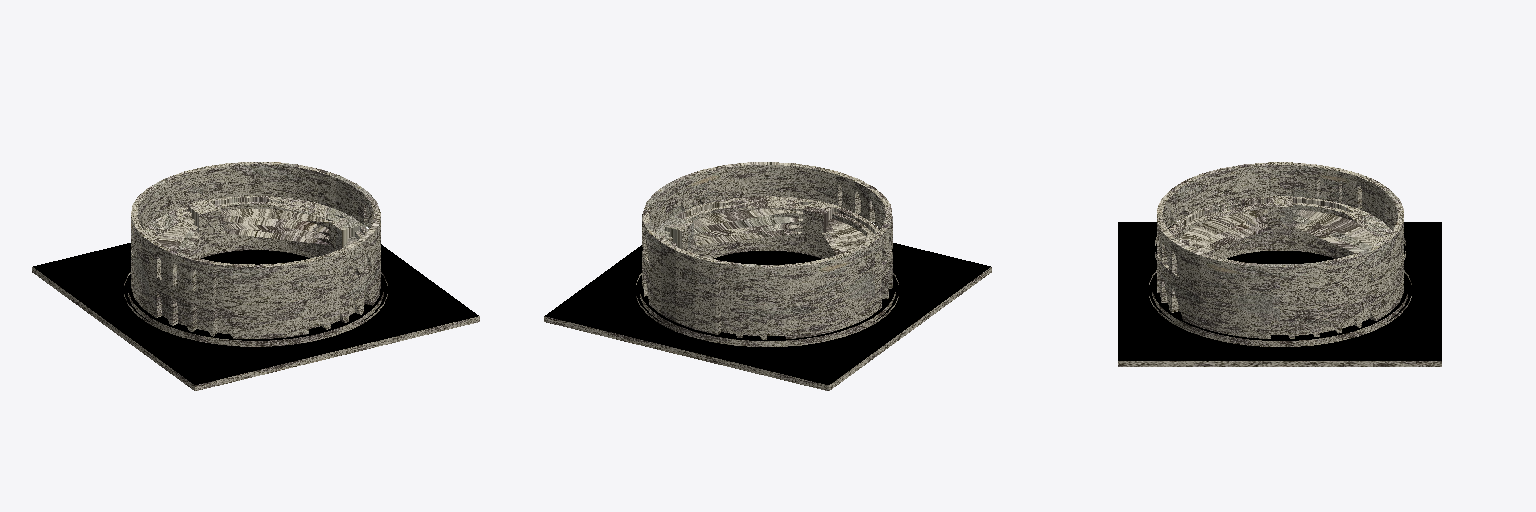
The picture shows the model from 3 angles: view 1: azimuth 30°, elevation 25°; view 2: azimuth 150°, elevation 25°; view 3: azimuth 270°, elevation 25°; orthographic projection.
Visible parts, largest first — view 1: Mesh; view 2: Mesh; view 3: Mesh.
Boxes of the visible parts, x1=… form: Mesh: x1=32, y1=162, x2=479, y2=390; Mesh: x1=544, y1=162, x2=991, y2=390; Mesh: x1=1118, y1=162, x2=1441, y2=366.
Size of the model in its own units: 40.28 by 11.17 by 39.84.
2 materials, 1 textured.